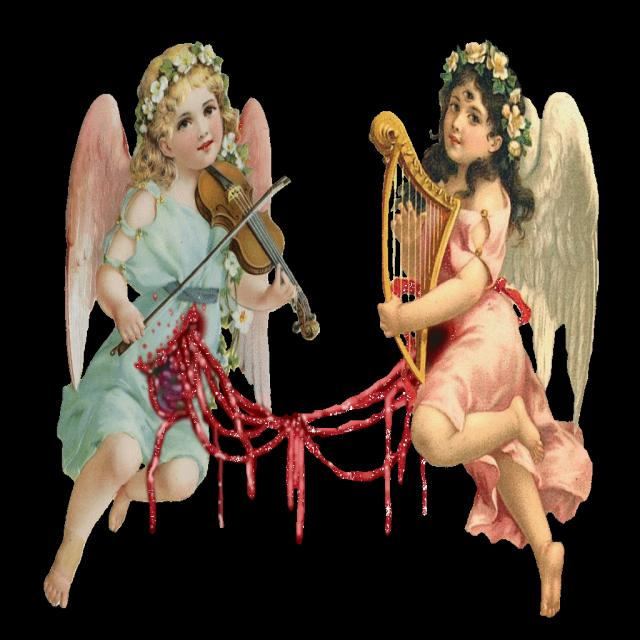angel: (43, 10, 324, 627), (354, 10, 619, 628)
